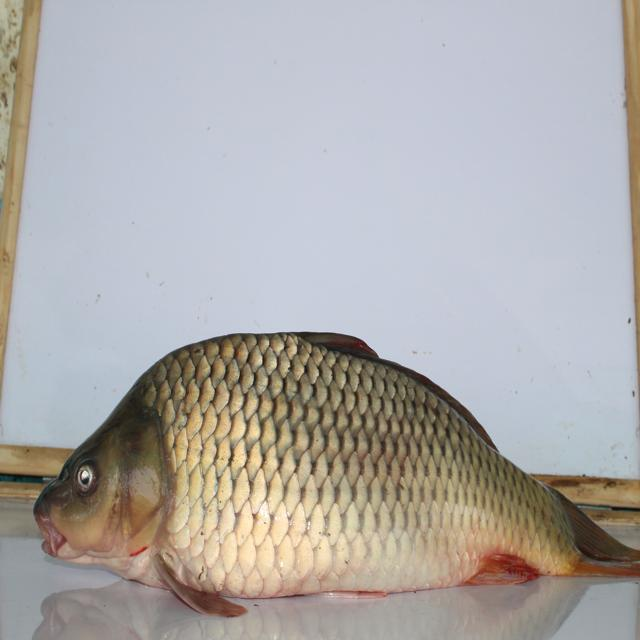CommonCarp: (36, 314, 640, 619)
